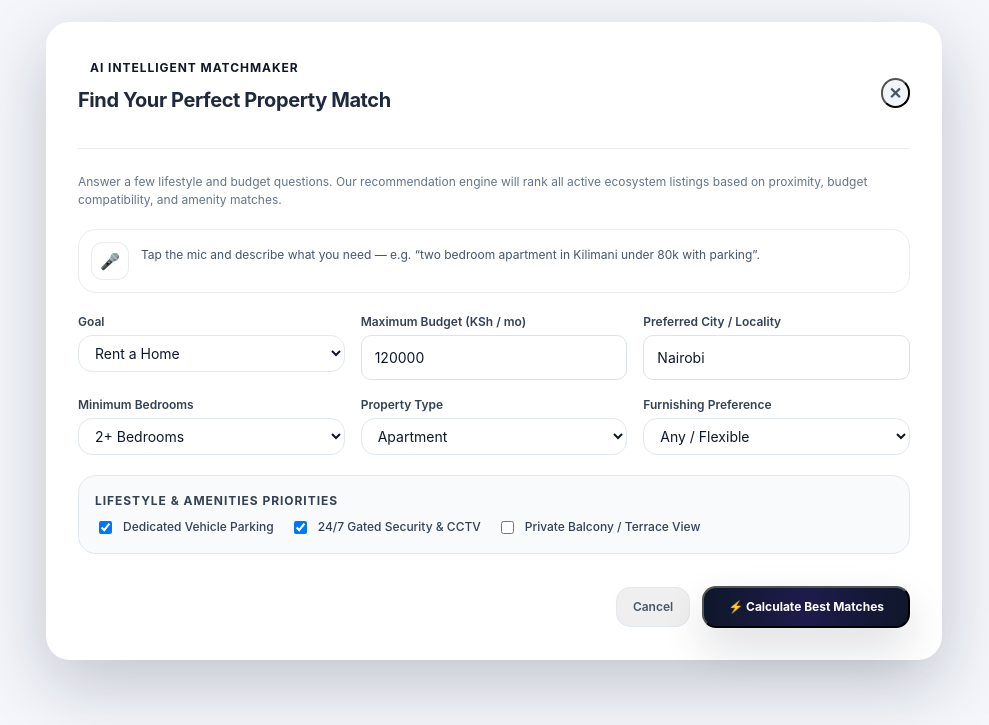
Scenario: SmartMatchModal › shows score, label, top factors and reasons for each result
Click the button "⚡ Calculate Best Matches". click: [806, 607]
box: top-left (702, 586), bottom-right (910, 628)
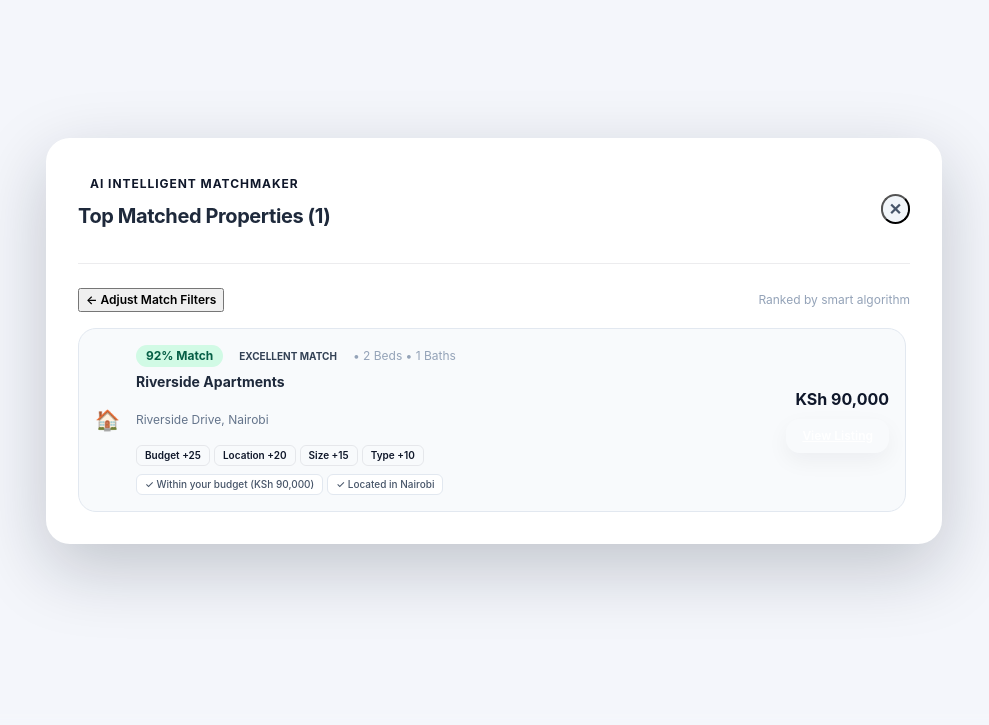
Check: the text "92% Match" is shown, box top-left (136, 346), bottom-right (223, 368)
Check: the text "Excellent match" is shown, box top-left (231, 347), bottom-right (345, 366)
Check: the text "Budget +25" is shown, box top-left (136, 445), bottom-right (210, 466)
